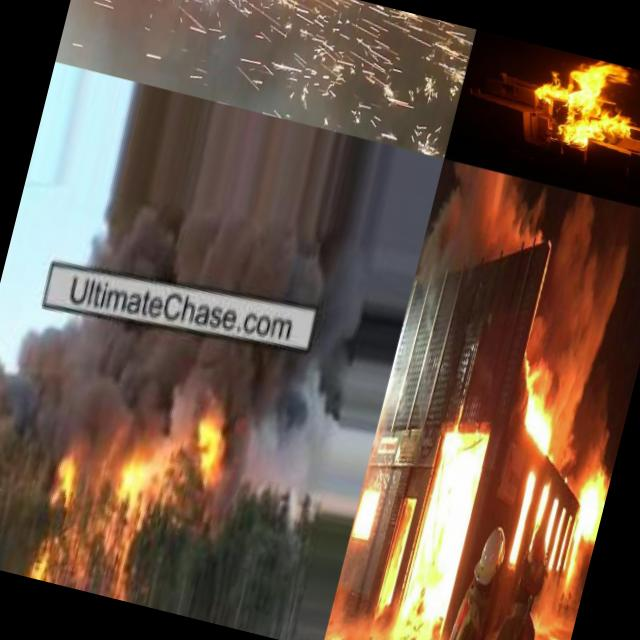fire: (24, 383, 240, 618), (403, 438, 487, 622), (521, 46, 640, 163), (567, 458, 614, 562), (507, 469, 539, 566), (385, 510, 415, 610), (518, 392, 563, 448), (526, 482, 550, 556), (546, 505, 570, 569), (352, 494, 379, 536), (558, 513, 576, 565), (543, 498, 561, 544)
smoke: (14, 303, 339, 457), (542, 260, 640, 493), (414, 162, 556, 308), (520, 217, 636, 394)
